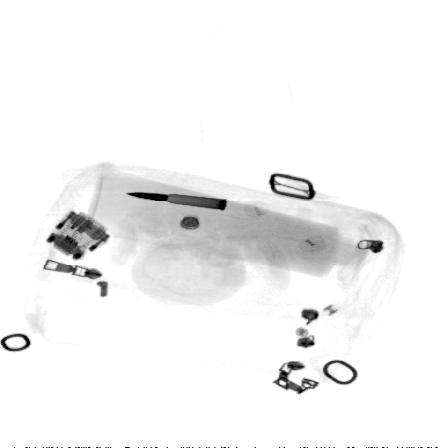Bullet: (124, 192, 227, 211)
